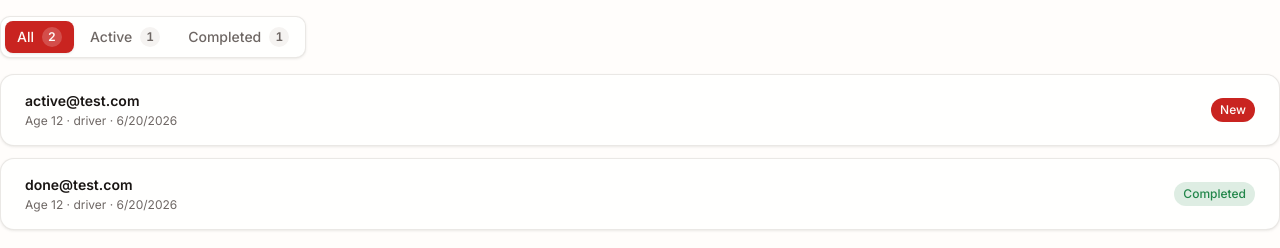
Test: CoachInbox component › filters submissions when switching tabs
Switch to "Active" — only the paid one
Click the tab "Active 1" at (125, 37), box [78,21,172,53]
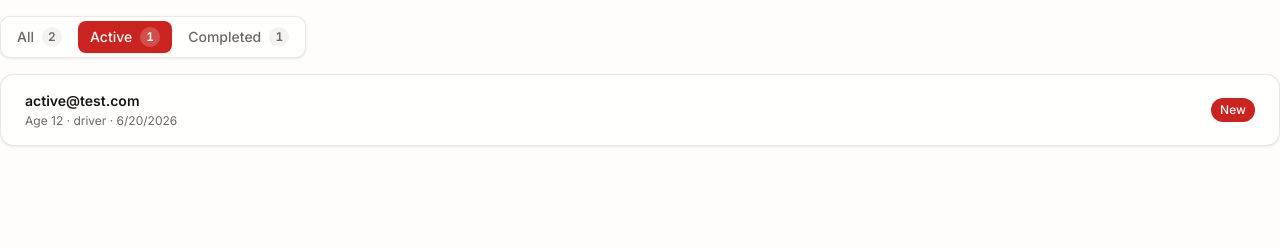
Expected: the text "active@test.com" is shown, [25,92,140,109]
Expected: the text "done@test.com" is gone
Switch to "Completed" — only the completed one
Click the tab "Completed 1" at (239, 37), box [176,21,301,53]
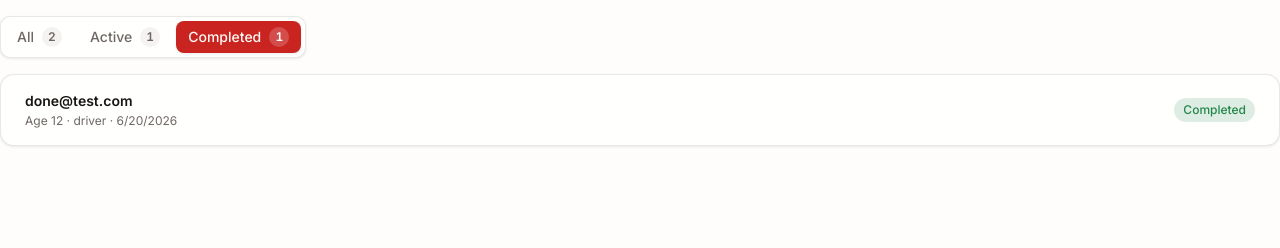
Expected: the text "active@test.com" is gone
Expected: the text "done@test.com" is shown, [25,92,133,109]
